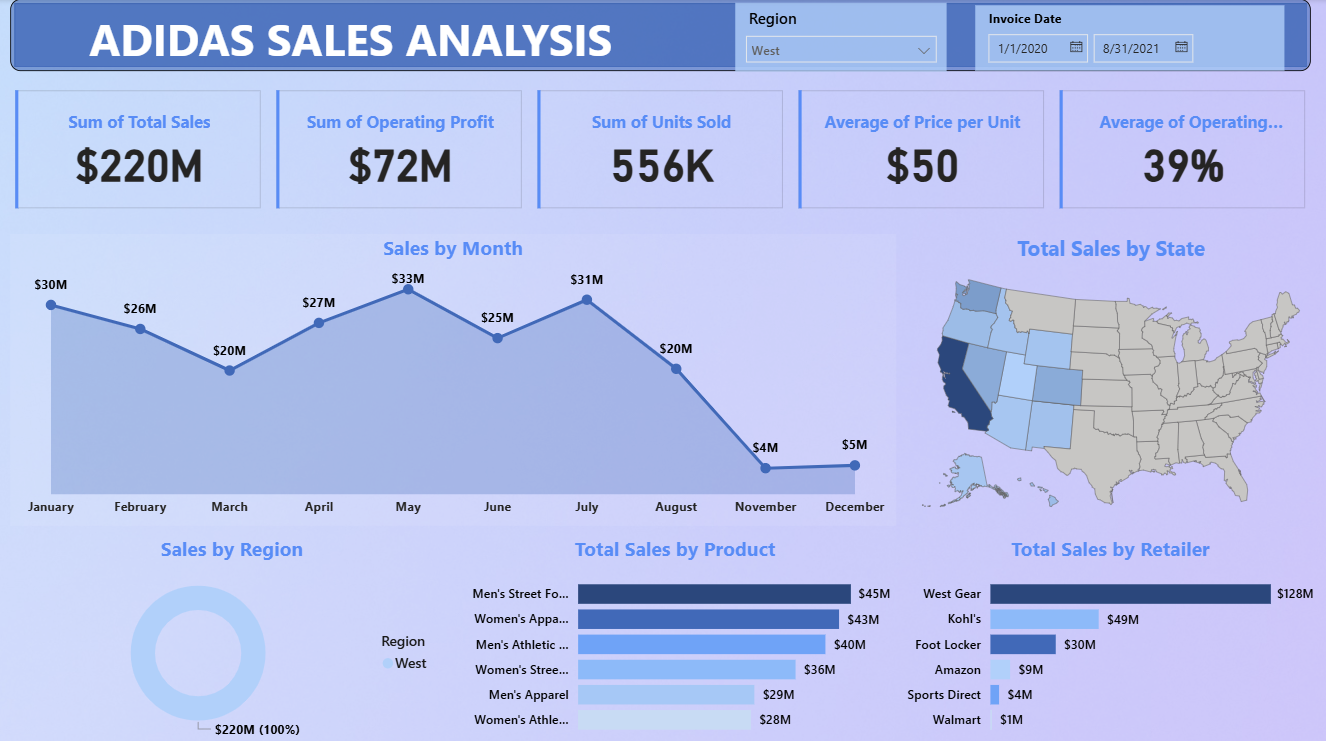

The dashboard page shown, as its layout file describes it:
{"tool":"powerbi","page":{"name":"Page 1","canvas":[1280,720],"ordinal":0},"visuals":[{"type":"shape","box":[11,0,1255.6,70],"z":0},{"type":"textbox","box":[82.3,4.1,531,79.6],"z":1000},{"type":"cardVisual","fields":{"Data":["Sum(Data Sales Adidas.Total Sales)","Sum(Data Sales Adidas.Operating Profit)","Sum(Data Sales Adidas.Units Sold)","Avg(Data Sales Adidas.Price per Unit)","Avg(Data Sales Adidas.Operating Margin)"]},"box":[11,83.7,1255.6,124.9],"z":2000},{"type":"areaChart","title":"Sales by Month","fields":{"Category":["Data Sales Adidas.Invoice Date.Variation.Date Hierarchy.Month"],"Y":["Sum(Data Sales Adidas.Total Sales)"]},"box":[11,226.4,854.9,281.3],"z":3000},{"type":"shapeMap","title":"Total Sales by State","fields":{"Category":["Data Sales Adidas.State"],"Value":["Sum(Data Sales Adidas.Total Sales)"]},"box":[865.9,226.4,414.4,281.3],"z":4000},{"type":"donutChart","title":"Sales by Region","fields":{"Category":["Data Sales Adidas.Region"],"Y":["Sum(Data Sales Adidas.Total Sales)"]},"box":[11,517.3,428.1,203.1],"z":5000},{"type":"barChart","title":"Total Sales by Product","fields":{"Category":["Data Sales Adidas.Product"],"Y":["Sum(Data Sales Adidas.Total Sales)"]},"box":[439.1,517.3,426.8,203.1],"z":6000},{"type":"barChart","title":"Total Sales by Retailer","fields":{"Y":["Sum(Data Sales Adidas.Total Sales)"],"Category":["Data Sales Adidas.Retailer"]},"box":[871.4,517.3,403.4,203.1],"z":7000},{"type":"slicer","fields":{"Values":["Data Sales Adidas.Region"]},"box":[710.5,3.7,204.2,66],"z":8000},{"type":"slicer","fields":{"Values":["Data Sales Adidas.Invoice Date"]},"box":[942.8,6.1,298.4,63.6],"z":9000}]}

Visuals, with their boxes in screenshot pixels (x1, y1, x2, y2), scaled from the page's 1280x720 canvas onto the 1326x741 screenshot:
shape: (x1=11, y1=0, x2=1312, y2=72)
textbox: (x1=85, y1=4, x2=635, y2=86)
cardVisual - Sum(Data Sales Adidas.Total Sales) x Sum(Data Sales Adidas.Operating Profit): (x1=11, y1=86, x2=1312, y2=215)
"Sales by Month" areaChart: (x1=11, y1=233, x2=897, y2=523)
"Total Sales by State" shapeMap: (x1=897, y1=233, x2=1325, y2=523)
"Sales by Region" donutChart: (x1=11, y1=532, x2=455, y2=740)
"Total Sales by Product" barChart: (x1=455, y1=532, x2=897, y2=740)
"Total Sales by Retailer" barChart: (x1=903, y1=532, x2=1321, y2=740)
slicer - Data Sales Adidas.Region: (x1=736, y1=4, x2=948, y2=72)
slicer - Data Sales Adidas.Invoice Date: (x1=977, y1=6, x2=1286, y2=72)
